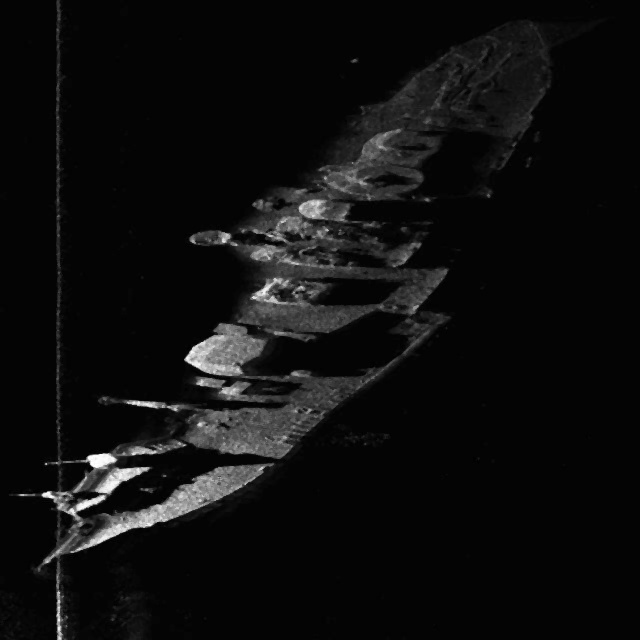Ship: (21, 16, 561, 573)
